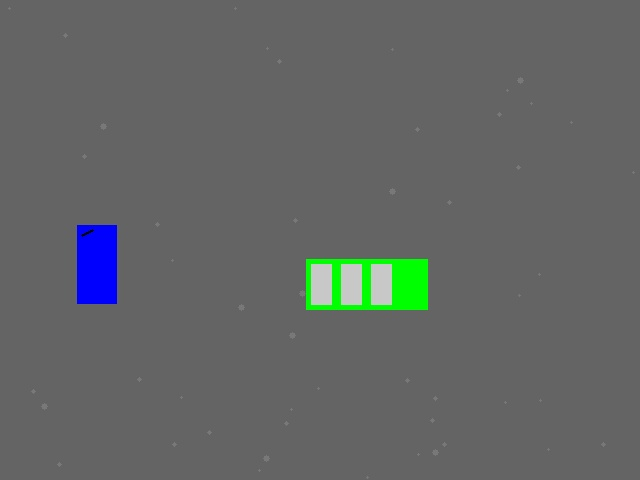bus: (306, 259, 427, 309)
motorcycle: (77, 225, 116, 303)
